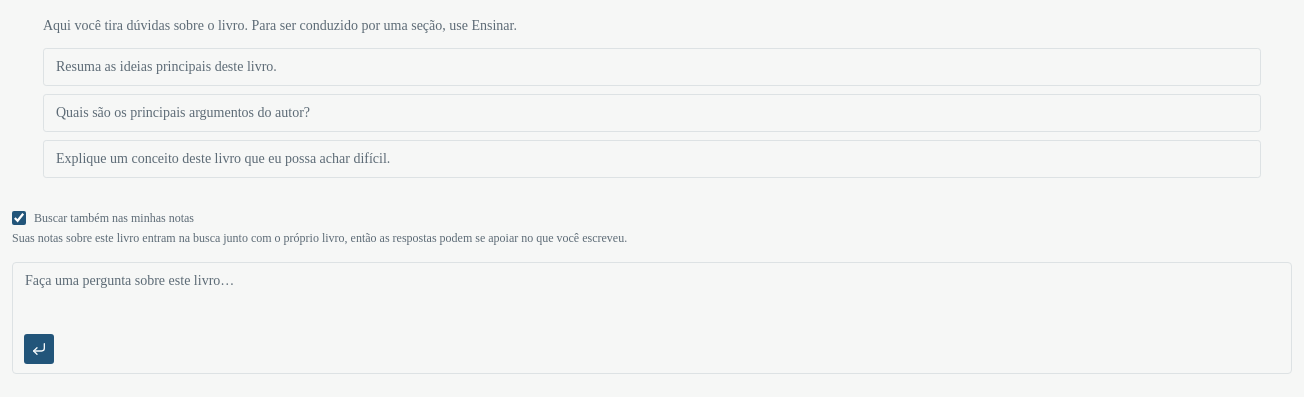
Test: typed own-budget refusals › budget refusal copy renders in Brazilian Portuguese
Type "Quem escreveu o primeiro algoritmo?" into the text box with placeholder "Faça uma pergunta sobre este livro…" at (652, 295), box [13,263,1291,327]
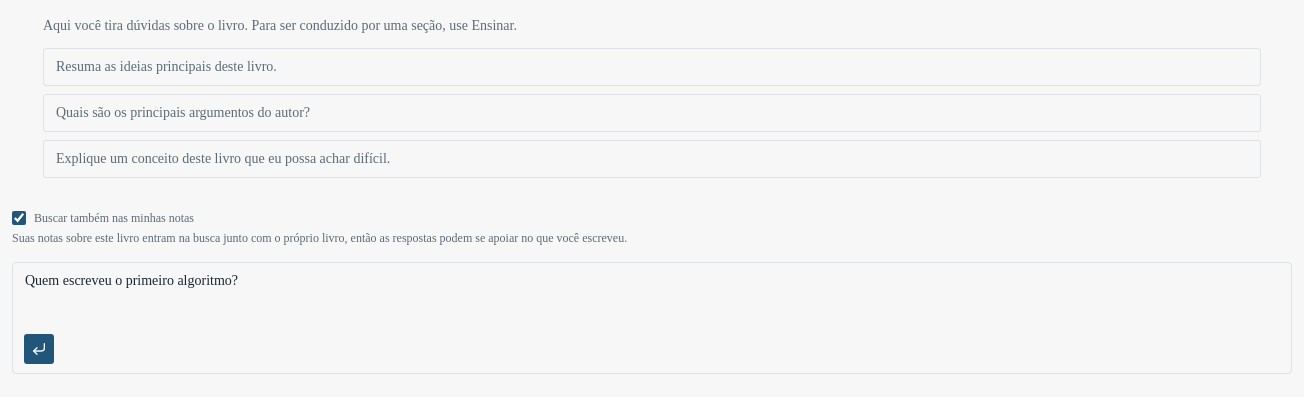
Click the button named "Enviar" at (39, 349), box [23,333,55,365]
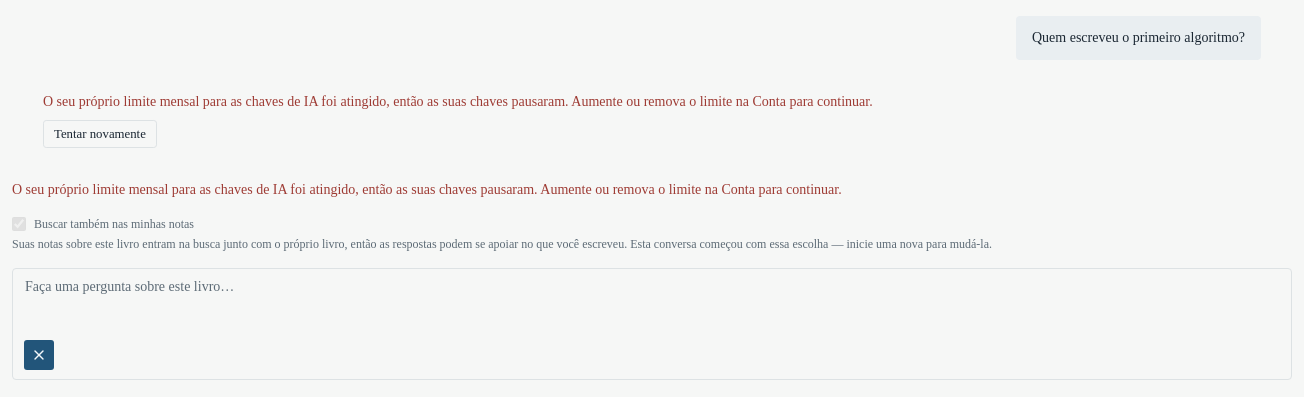
Expected: the text "O seu próprio limite mensal para as chaves de IA foi atingido, então as suas chaves pausaram. Aumente ou remova o limite" is shown, [43,94,873,109]
